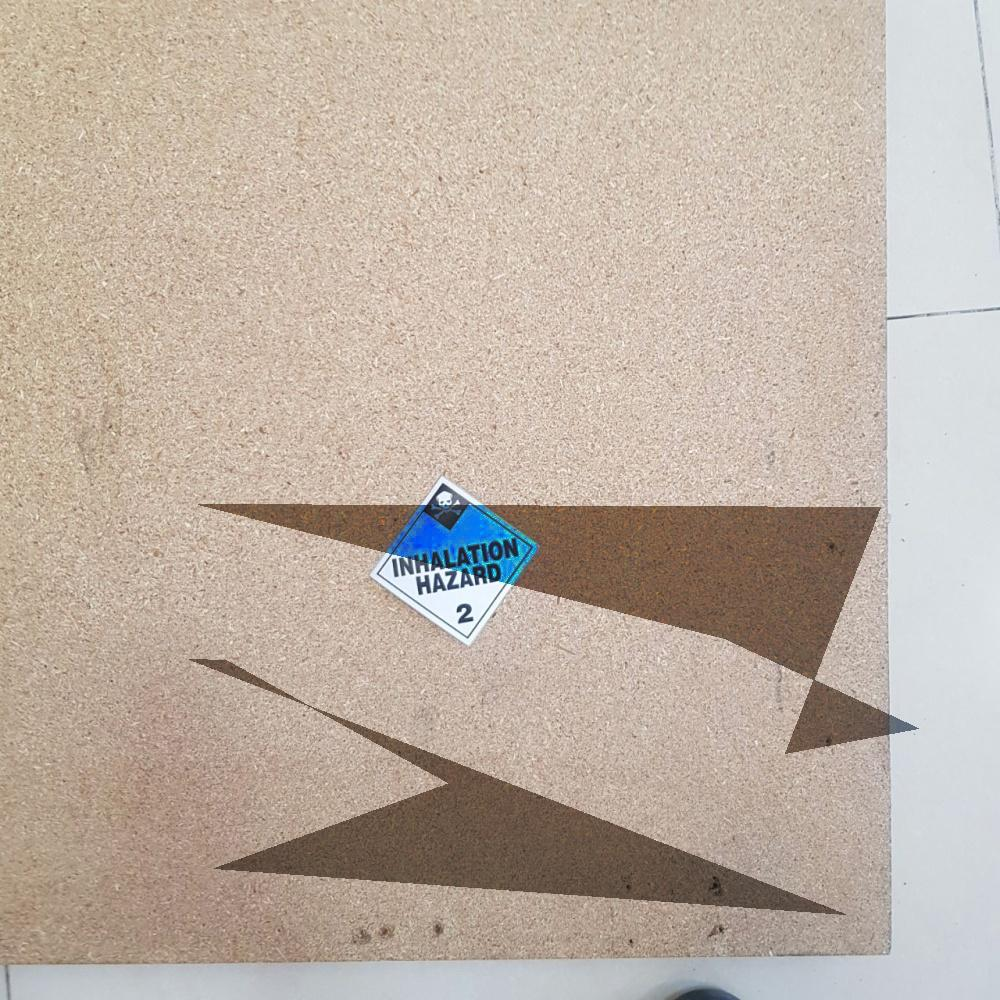poison: (374, 483, 536, 642)
